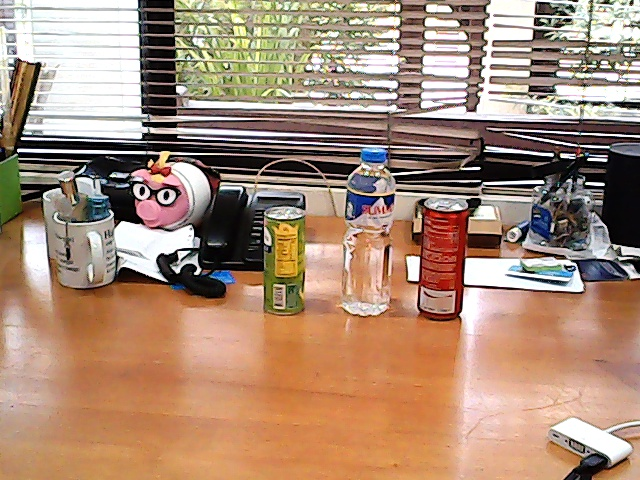Cola: (419, 199, 471, 318)
Pine Juice: (262, 206, 308, 314)
Summit Water: (343, 145, 396, 316)
